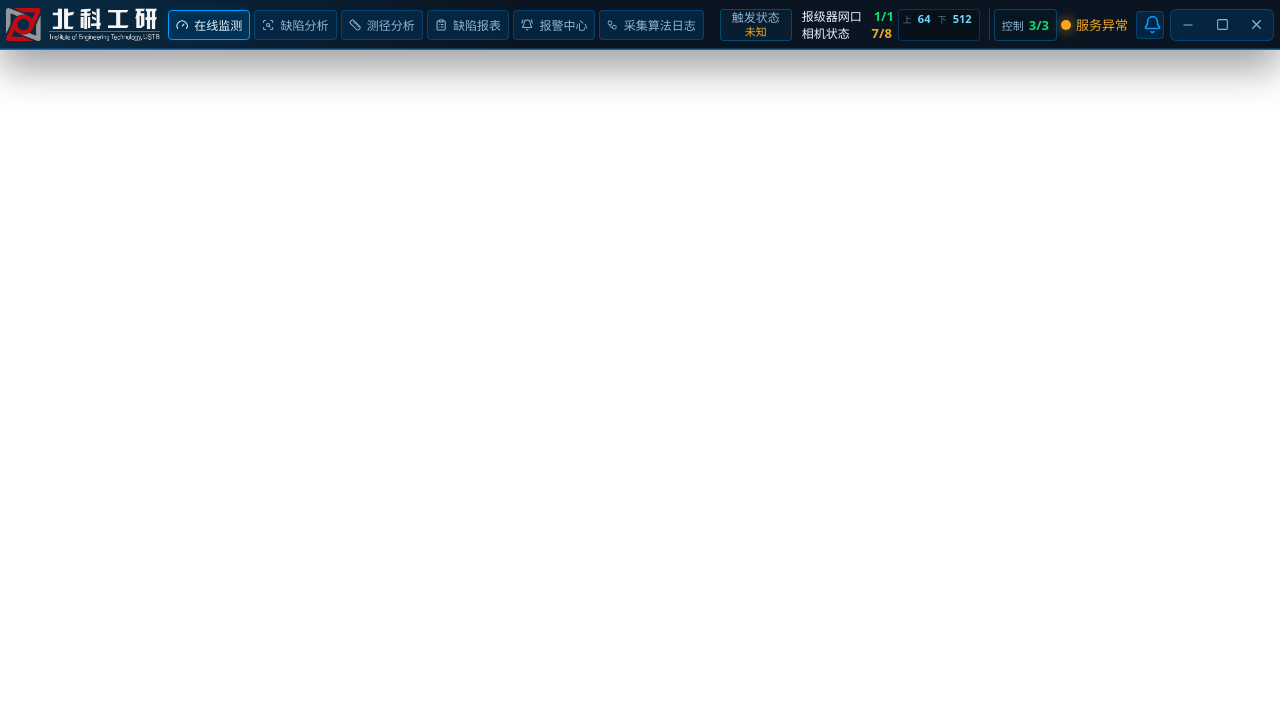
Scenario: BrandHeader › shows real-time upload and download rates from the network monitor without limit controls
This screenshot has width=1280, height=720.
Expected: the element titled "实时上传 64 Mbps / 下载 512 Mbps" is shown, [898,8,980,40]
What coordinates should you click on to do the following:
click the button with aria-label "报级器网口，在线 1 路，异常 0 路"
I would click on:
 (844, 16)
Its box is [796,8,893,24].
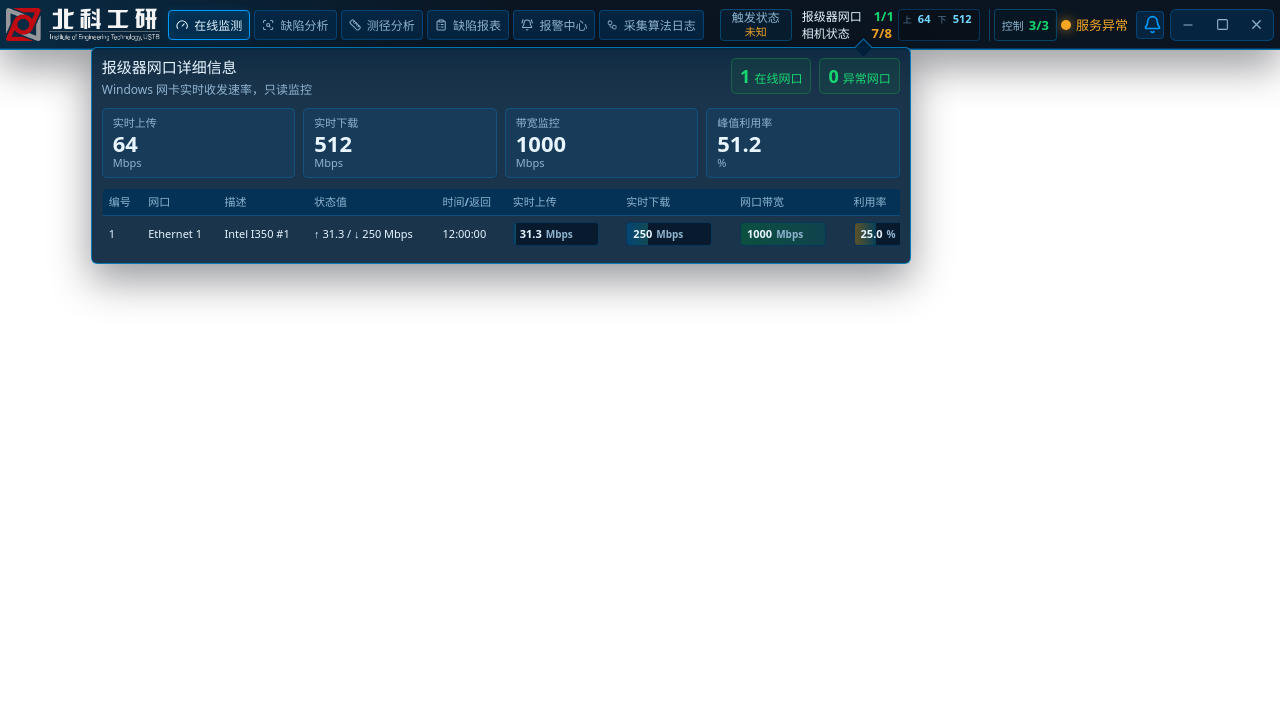
Now the text "Windows 网卡实时收发速率，只读监控" is shown, box [102,80,312,98]
Now the text "Ethernet 1" is shown, box [142,215,218,252]
Now the text "Intel I350 #1" is shown, box [218,215,308,252]
